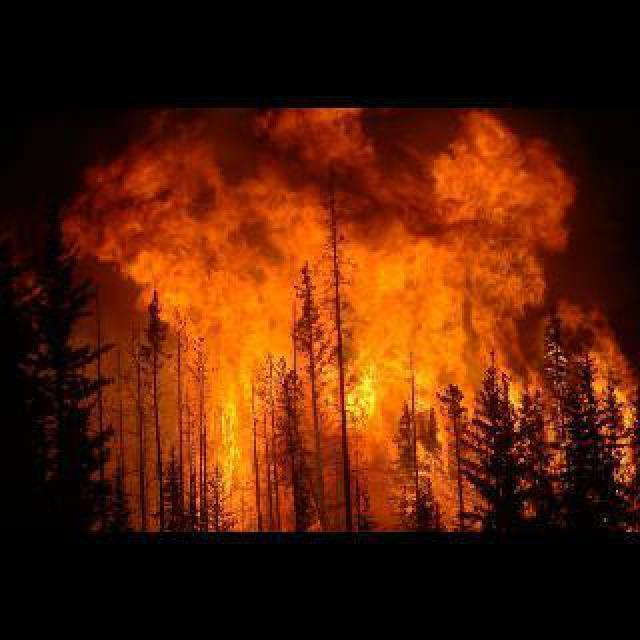Fire: (54, 112, 634, 530)
